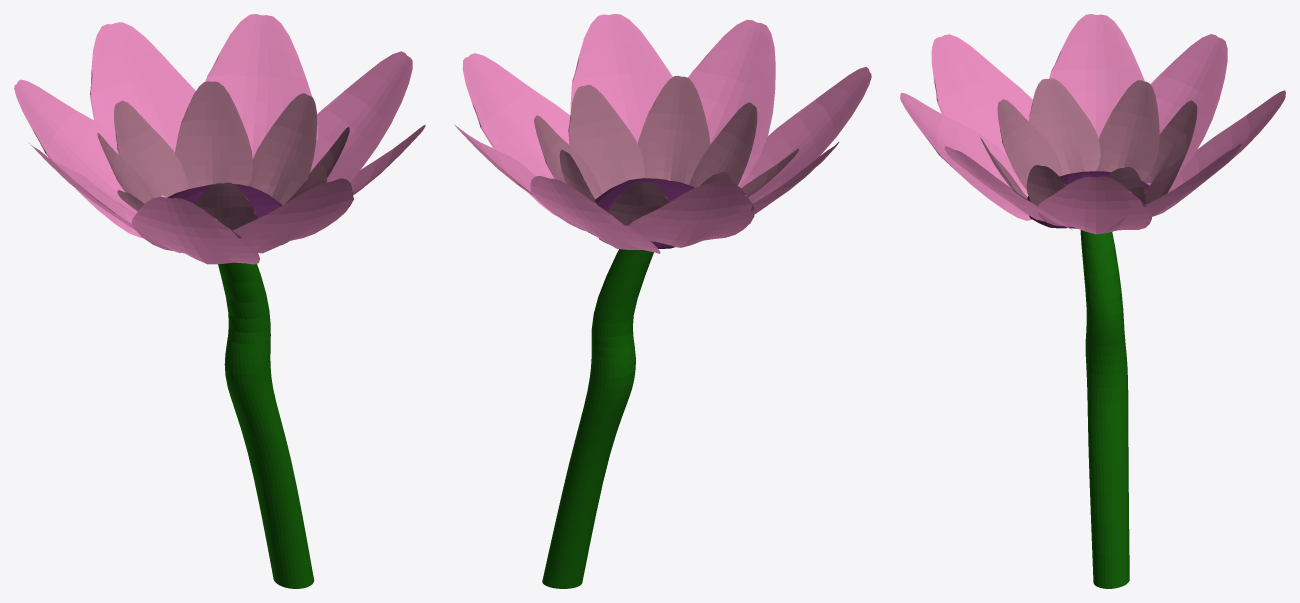
The model's file is flower.fbx.
3 renders of one model, left to right at view 1: azimuth 30°, elevation 25°; view 2: azimuth 150°, elevation 25°; view 3: azimuth 270°, elevation 25°, orthographic. The views are drawn at different scales.
Visible parts, largest first — view 1: Cylinder, Petal.003, Petal.007, Petal.001, Petal.006, Petal.009, Petal.005, Petal.012, Petal.002, Petal.015, Petal.008, Petal (+4 smaller); view 2: Cylinder, Petal.002, Petal.004, Petal.001, Petal.005, Petal.013, Petal.006, Petal.010, Petal.003, Petal.008, Petal.012, Petal.015 (+5 smaller); view 3: Cylinder, Petal, Petal.005, Petal.006, Petal.001, Petal.011, Petal.014, Petal.002, Petal.003, Petal.008, Petal.004, Petal.015 (+5 smaller).
Boxes of the visible parts, box(x1,y1,x2,y2) form: Cylinder: box(218, 262, 314, 588); Petal.003: box(90, 22, 195, 152); Petal.007: box(205, 14, 317, 158); Petal.001: box(310, 51, 412, 182); Petal.006: box(14, 79, 167, 237); Petal.009: box(175, 81, 253, 188); Petal.005: box(131, 197, 259, 264); Petal.012: box(248, 93, 317, 204); Petal.002: box(232, 178, 353, 253); Petal.015: box(114, 100, 188, 197); Petal.008: box(195, 182, 257, 230); Petal: box(29, 143, 180, 253); Cylinder: box(542, 249, 653, 588); Petal.002: box(688, 19, 775, 186); Petal.004: box(570, 14, 672, 180); Petal.001: box(462, 53, 570, 215); Petal.005: box(739, 67, 871, 213); Petal.013: box(638, 75, 710, 184); Petal.006: box(629, 181, 754, 247); Petal.010: box(568, 85, 644, 193); Petal.003: box(530, 176, 660, 253); Petal.008: box(689, 102, 757, 187); Petal.012: box(534, 115, 601, 199); Petal.015: box(608, 181, 669, 242); Cylinder: box(1080, 230, 1129, 588); Petal: box(1049, 14, 1144, 138); Petal.005: box(931, 34, 1032, 155); Petal.006: box(1146, 34, 1227, 185); Petal.001: box(1037, 176, 1151, 234); Petal.011: box(1096, 80, 1159, 181); Petal.014: box(1029, 78, 1100, 175); Petal.002: box(900, 92, 1031, 220); Petal.003: box(1154, 90, 1285, 216); Petal.008: box(997, 99, 1062, 190); Petal.004: box(944, 146, 1072, 229); Petal.015: box(1143, 100, 1197, 183).
Bounding box in the file's own units: 950 × 1229 × 953.
